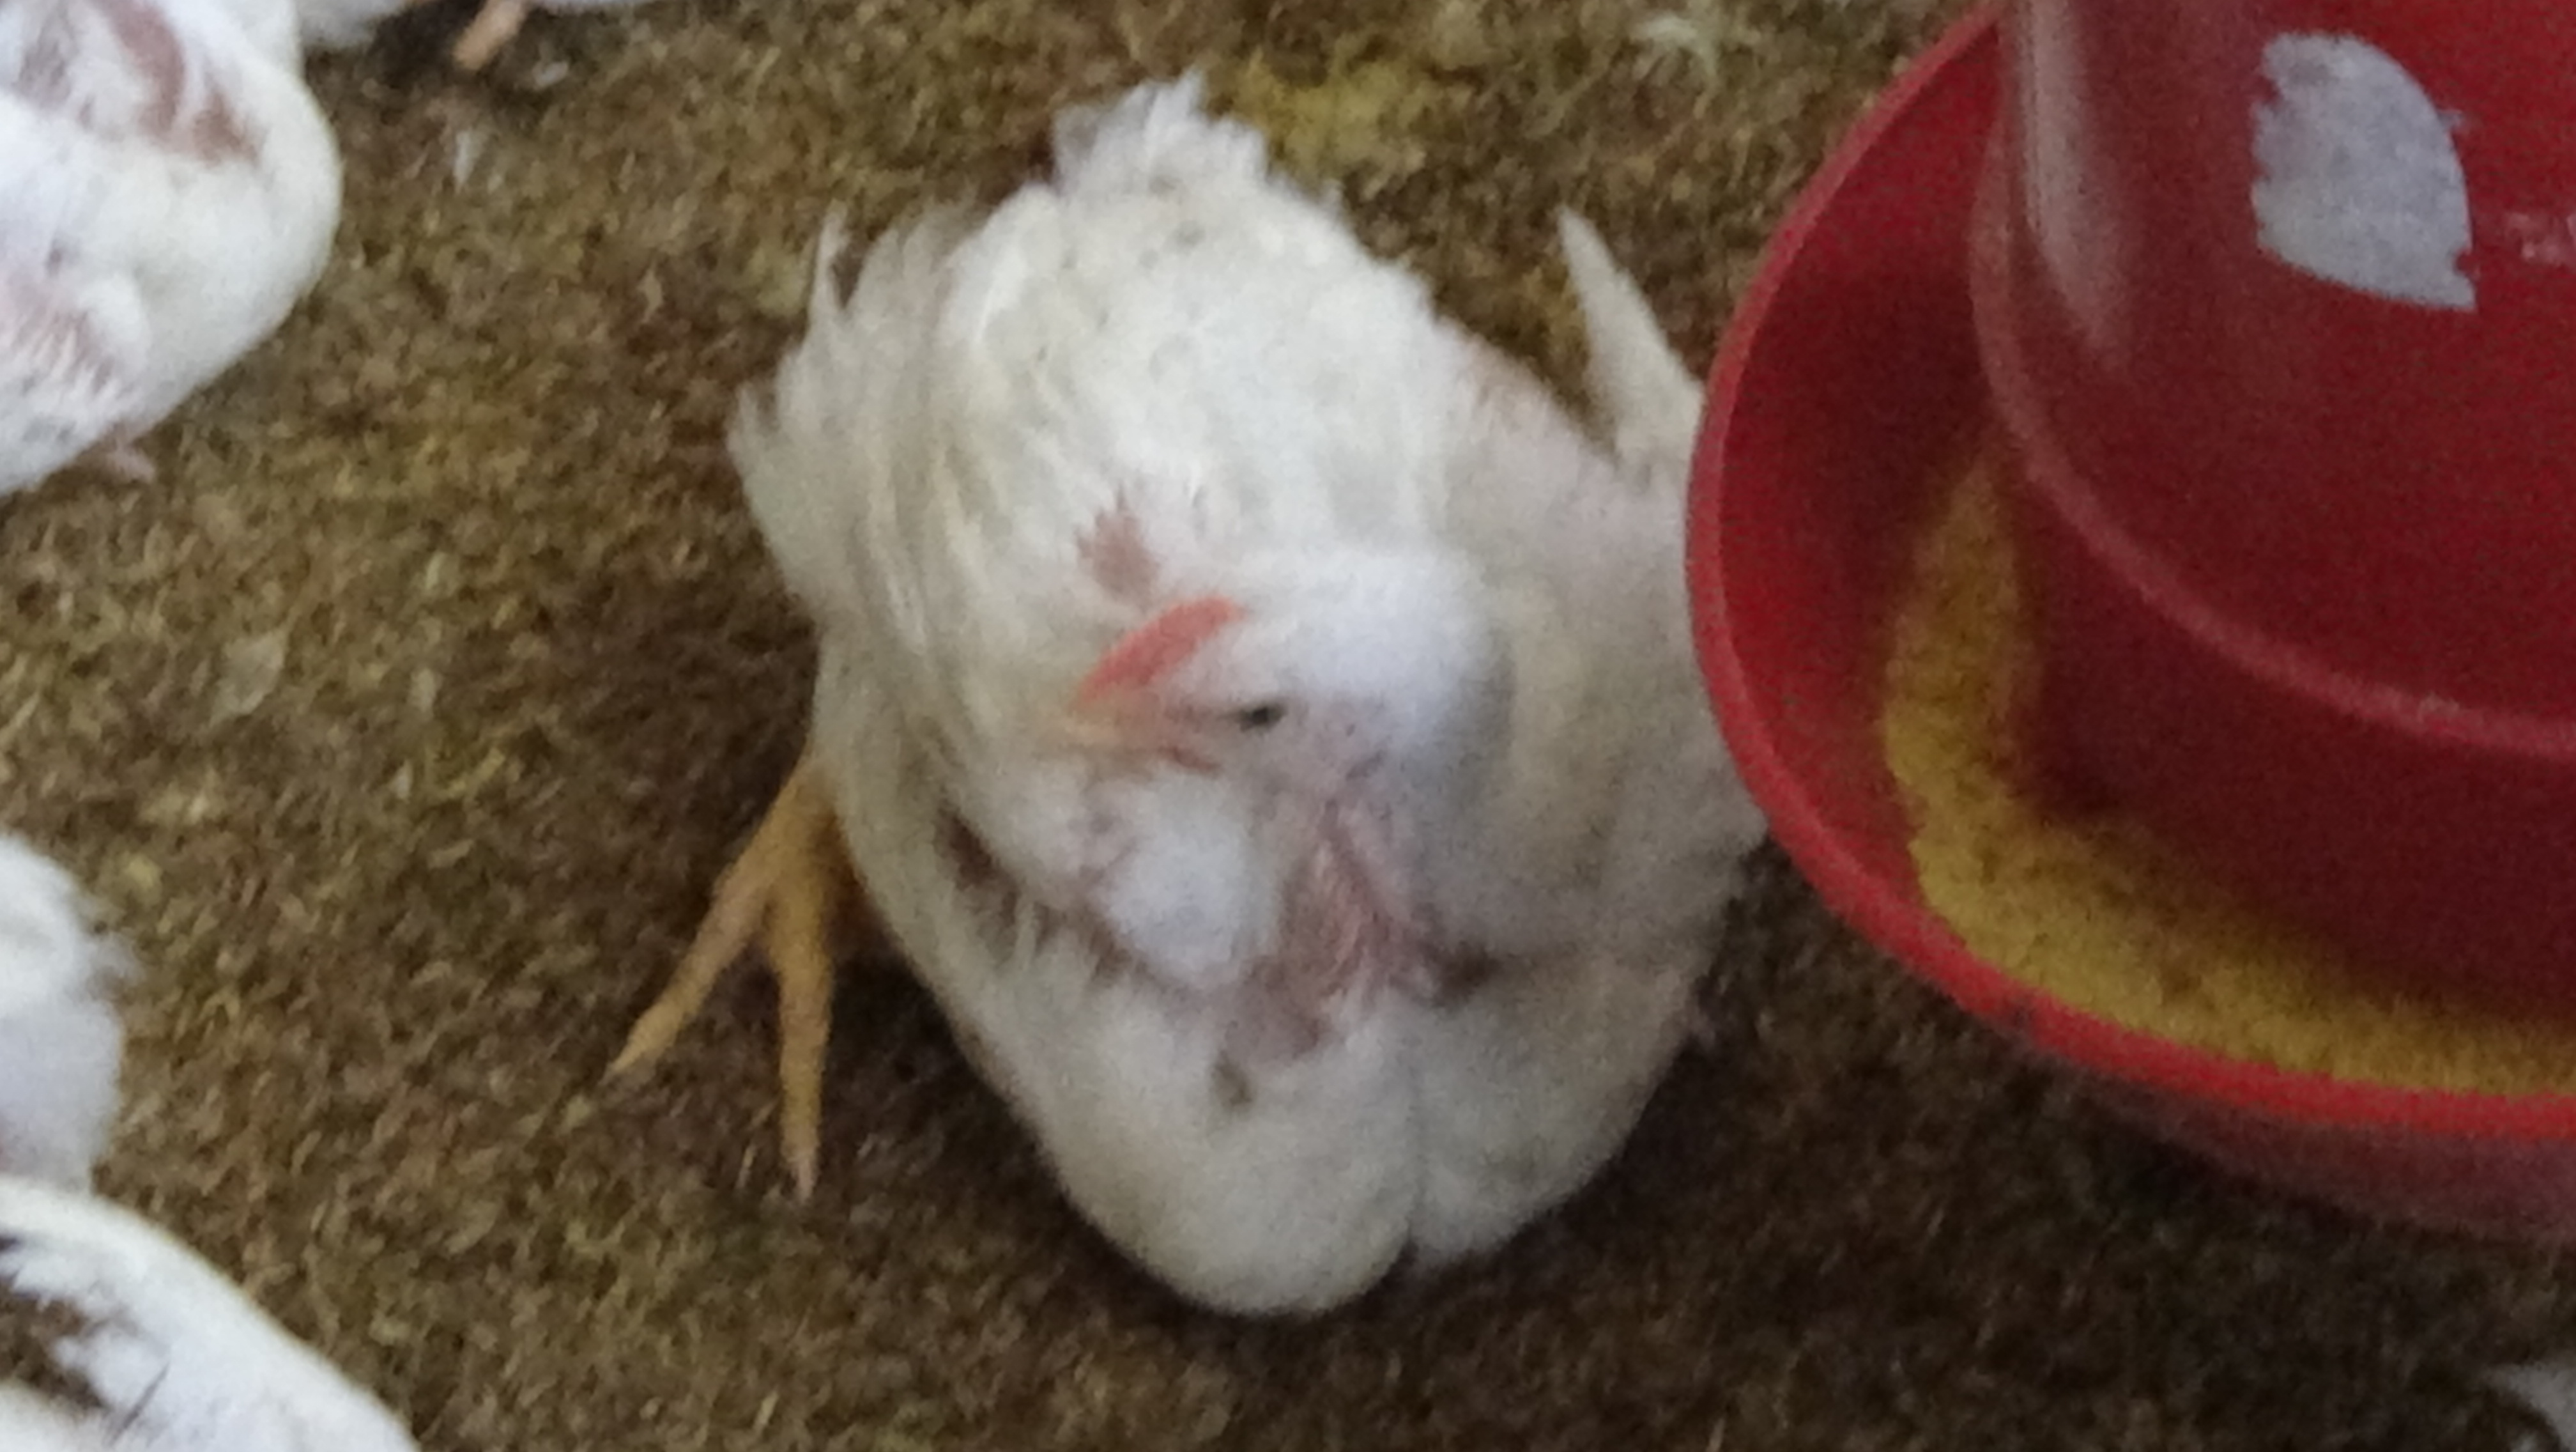Pollos: (711, 140, 1775, 1335)
